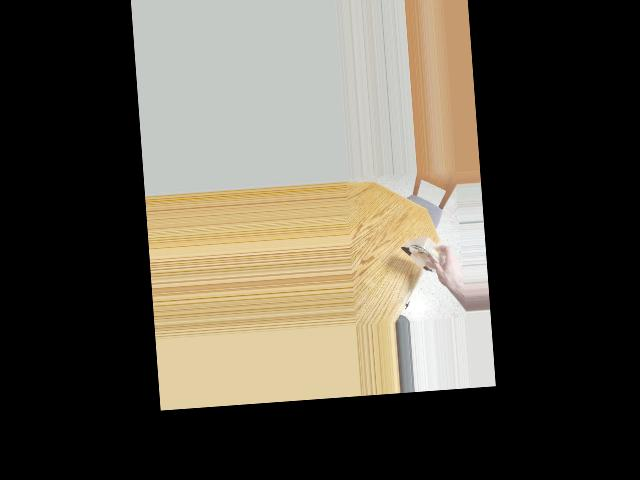cheese: (402, 226, 449, 288)
